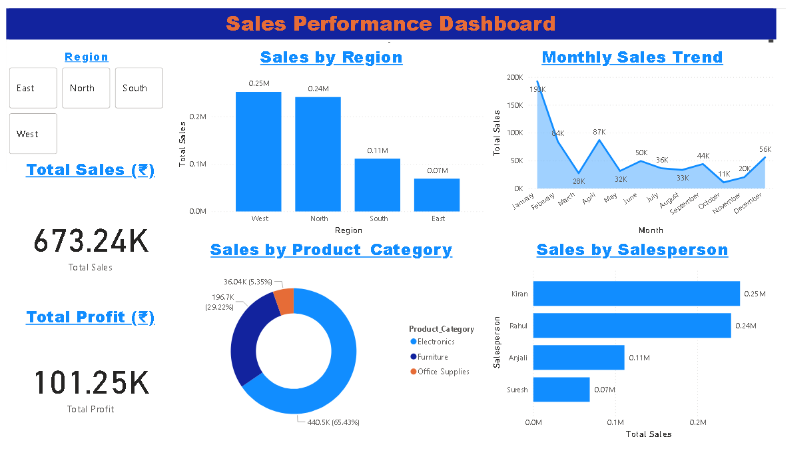

Layout of this report page (visuals, bound fields, positions):
{"tool":"powerbi","page":{"name":"Page 1","canvas":[1280,720],"ordinal":0},"visuals":[{"type":"card","title":"Total Sales (₹)","fields":{"Values":["sales_data.Total Sales"]},"box":[0,248.3,280,245],"z":0},{"type":"card","title":"Total Profit (₹)","fields":{"Values":["sales_data.Total Profit"]},"box":[0,493.3,280,226.7],"z":1},{"type":"clusteredColumnChart","title":" Sales by Region","fields":{"Category":["sales_data.Region"],"Y":["sales_data.Total Sales"]},"box":[280,61.7,521.7,320],"z":2},{"type":"donutChart","title":"Sales by Product_Category","fields":{"Category":["sales_data.Product_Category"],"Y":["sales_data.Total Sales"]},"box":[280,381.7,521.7,338.3],"z":3},{"type":"lineChart","title":" Monthly Sales Trend ","fields":{"Category":["sales_data.Order_Date.Variation.Date Hierarchy.Month"],"Y":["sales_data.Total Sales"]},"box":[801.7,61.7,478.3,320],"z":4},{"type":"clusteredBarChart","title":"Sales by Salesperson","fields":{"Category":["sales_data.Salesperson"],"Y":["sales_data.Total Sales"]},"box":[801.7,381.7,478.3,338.3],"z":5},{"type":"advancedSlicerVisual","fields":{"Values":["sales_data.Region"]},"box":[0,66.7,268.3,181.7],"z":6},{"type":"textbox","title":"Sales Performance Dashboard","box":[0,0,1280,61.7],"z":7}]}

Visuals, with their boxes on the page's 1280x720 design canvas (x1, y1, x2, y2). These are canvas units, not pixel positions in the 786x470 screenshot, which may show the page scaled, cropped or inside an application window:
"Total Sales (₹)" card: l=0, t=248, r=280, b=493
"Total Profit (₹)" card: l=0, t=493, r=280, b=720
" Sales by Region" clusteredColumnChart: l=280, t=62, r=802, b=382
"Sales by Product_Category" donutChart: l=280, t=382, r=802, b=720
" Monthly Sales Trend " lineChart: l=802, t=62, r=1280, b=382
"Sales by Salesperson" clusteredBarChart: l=802, t=382, r=1280, b=720
advancedSlicerVisual - sales_data.Region: l=0, t=67, r=268, b=248
"Sales Performance Dashboard" textbox: l=0, t=0, r=1280, b=62
